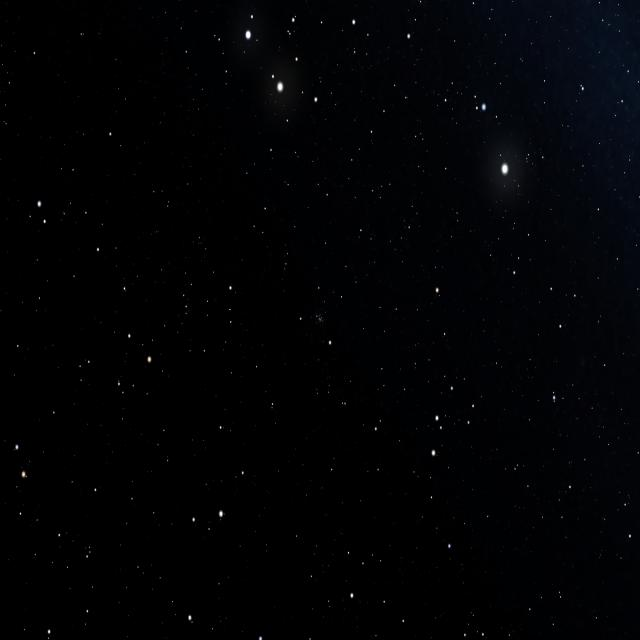Cancer: (226, 197, 442, 435)
